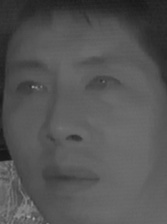eye: (82, 71, 121, 97), (13, 77, 51, 100)
mouth: (34, 157, 103, 199)
